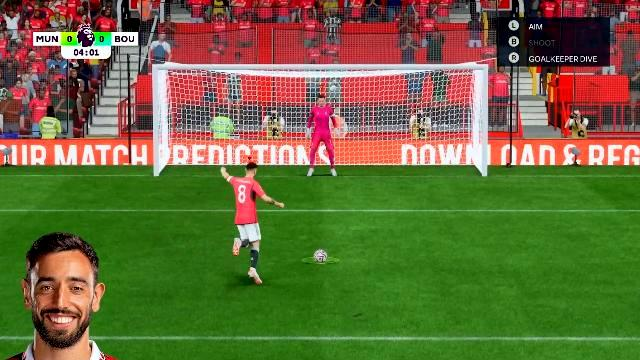bottom-left: (158, 126, 268, 178)
bottom-right: (366, 126, 482, 178)
center-down: (269, 126, 363, 178)
center-up: (269, 70, 363, 126)
circle: (302, 256, 338, 264)
football: (313, 250, 327, 260)
goalkeeper: (306, 96, 338, 178)
player: (219, 160, 285, 288)
top-left: (158, 70, 268, 126)
top-right: (365, 71, 483, 125)
